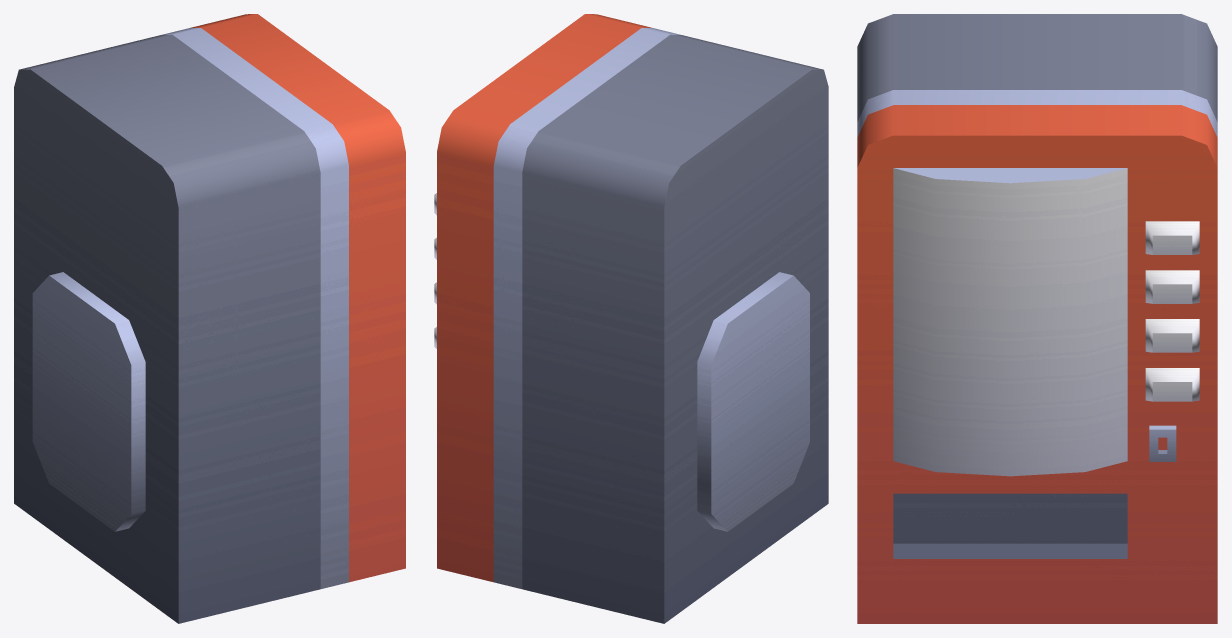
Rendered from vending-machine.002_lev2.glb.
The picture shows the model from 3 angles, left to right: view 1: azimuth 30°, elevation 25°; view 2: azimuth 150°, elevation 25°; view 3: azimuth 270°, elevation 25°; orthographic projection. The views are drawn at different scales.
Parts seen in each view (by area): view 1: vending-machine.002_lev2; view 2: vending-machine.002_lev2; view 3: vending-machine.002_lev2.
Part boxes in pixels (left/top/right/bottom): vending-machine.002_lev2: left=14, top=14, right=405, bottom=623; vending-machine.002_lev2: left=434, top=14, right=828, bottom=623; vending-machine.002_lev2: left=857, top=14, right=1217, bottom=623.
Bounding box in the file's own units: 1.9 × 3 × 2.
Materials: 1 (1 with a texture image).
